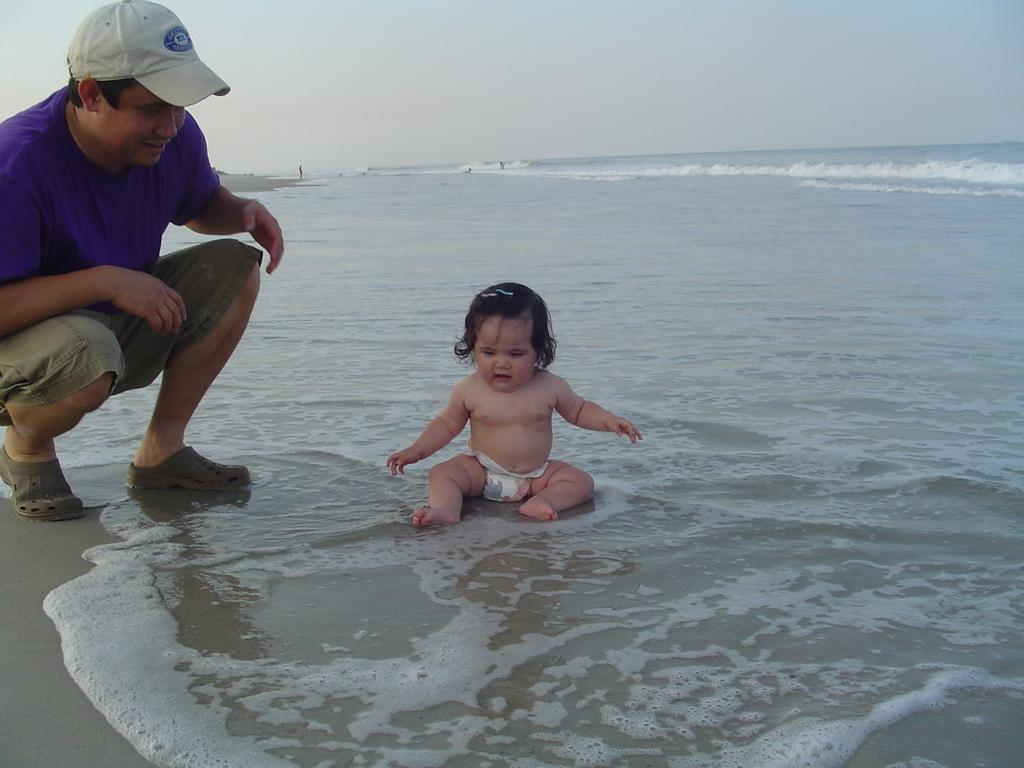Hat: (64, 0, 230, 108)
